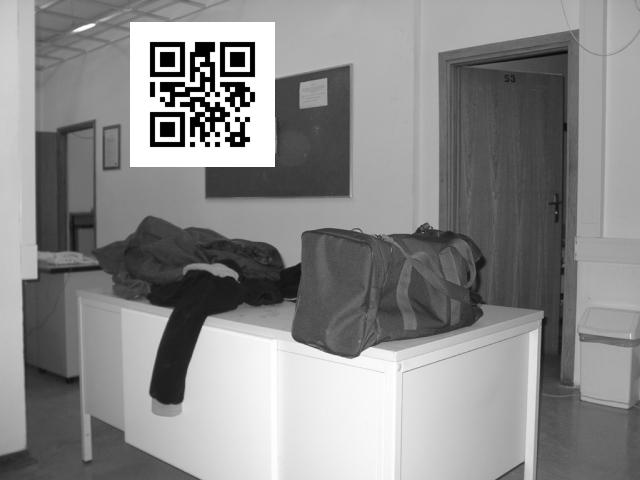qr_code: (130, 22, 274, 166)
